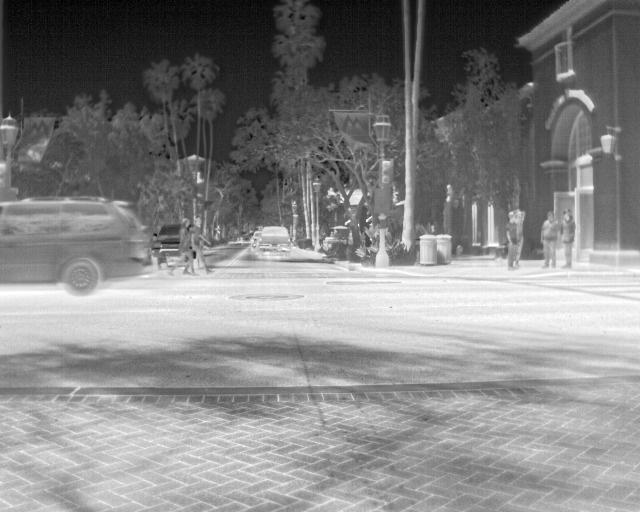bicycle: (0, 194, 158, 297), (153, 220, 189, 258), (255, 223, 292, 258), (249, 229, 262, 251)
empty: (168, 217, 198, 272), (189, 218, 215, 271), (538, 208, 559, 268), (556, 206, 573, 268), (505, 209, 519, 269)
